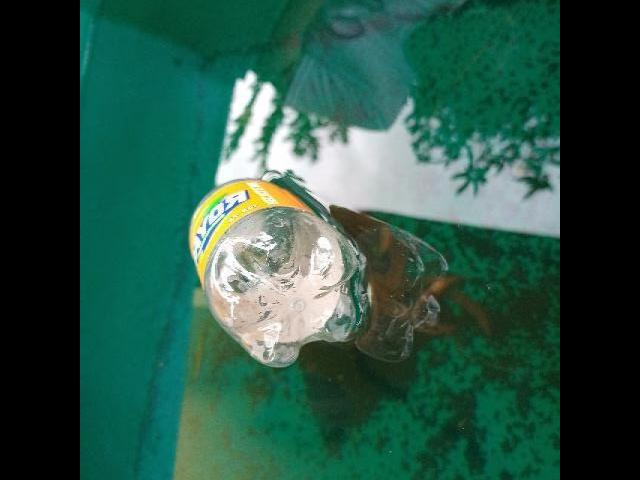Bottle: (186, 170, 372, 366)
